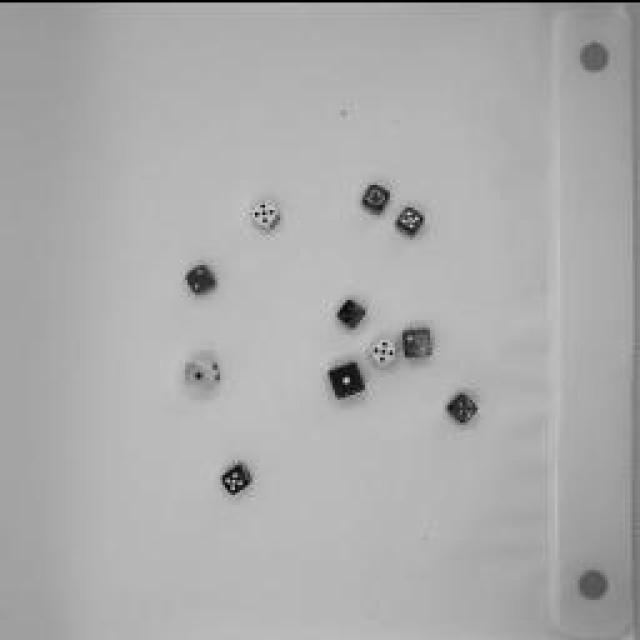dice_1: (325, 356, 365, 399), (186, 352, 222, 392), (360, 180, 390, 215)
dice_2: (182, 249, 222, 306), (399, 316, 439, 366)
dice_5: (442, 389, 482, 429), (212, 458, 252, 498), (365, 335, 400, 370), (248, 195, 282, 230), (338, 299, 372, 329), (395, 204, 427, 234)
